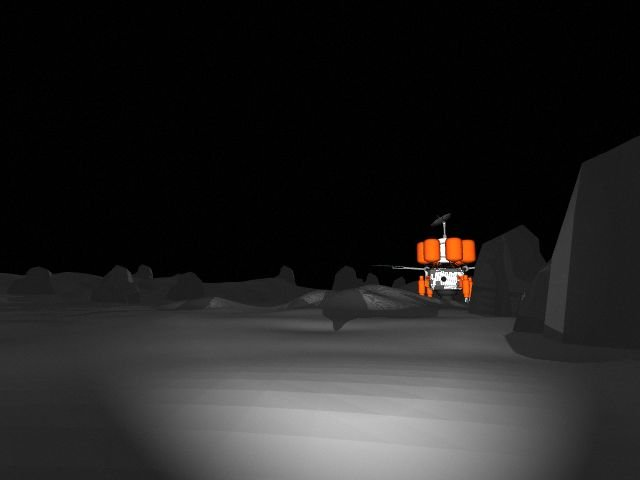homebase: (376, 211, 512, 307)
